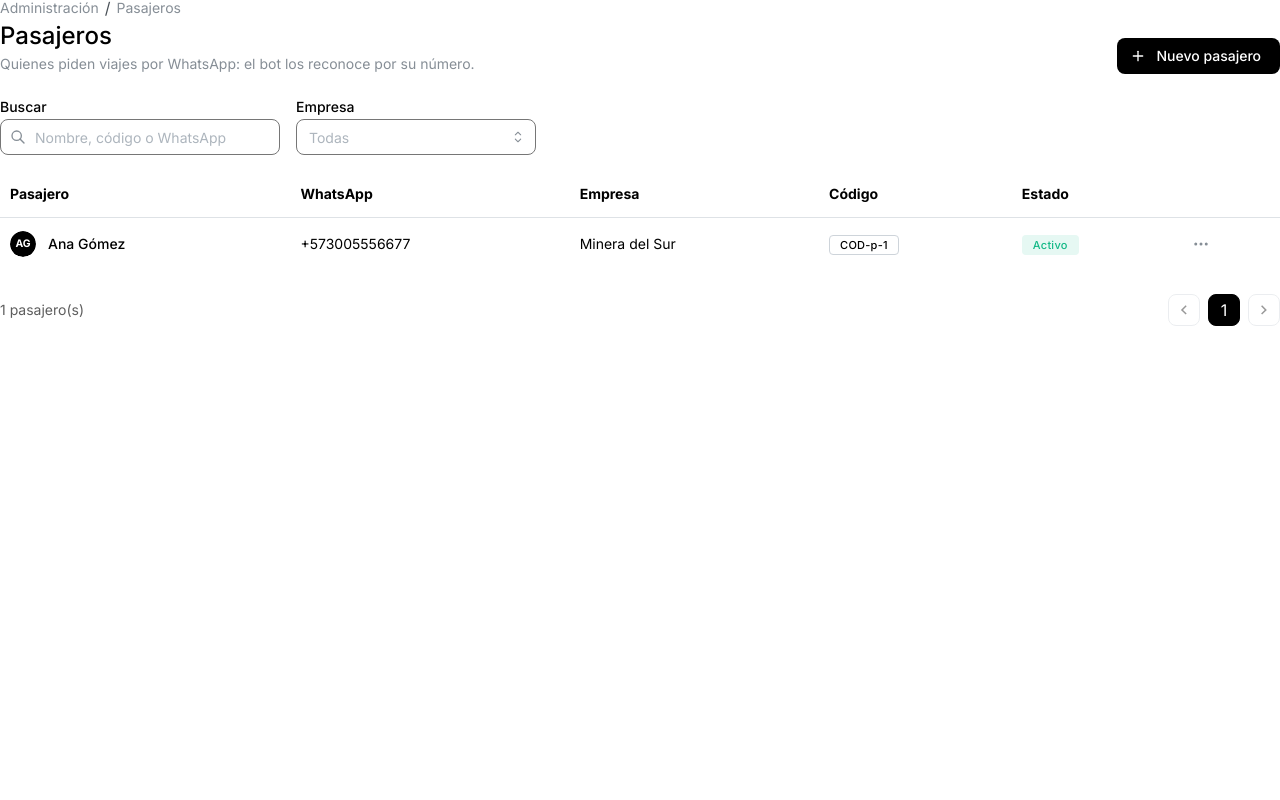
Scenario: Pasajeros (RF-05) › el Administrador registra un pasajero eligiendo solo entre empresas activas
Click the button "Nuevo pasajero": (1199, 56) [1118,38,1279,74]
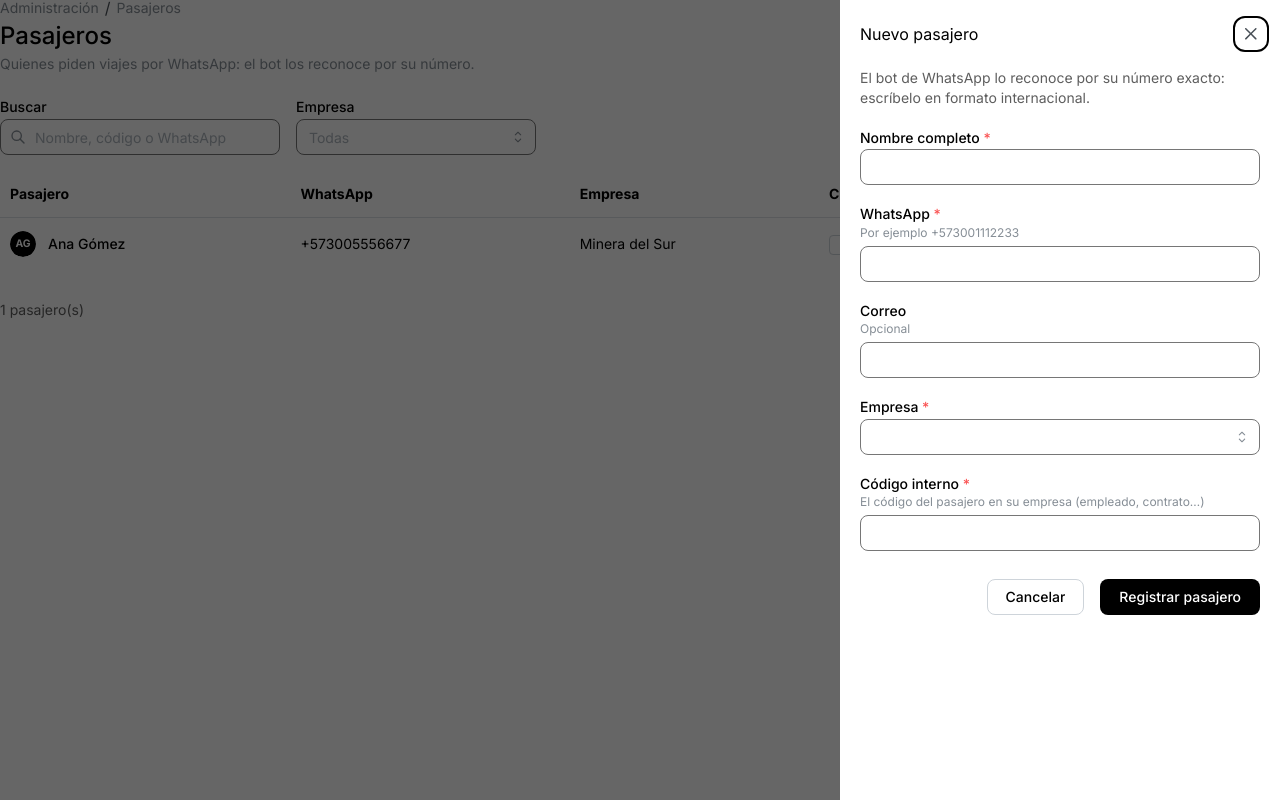
In the field labelled "Nombre completo *": (1060, 167) [860,149,1260,185], type "Luis Díaz"
In the field labelled "WhatsApp *": (1060, 264) [860,246,1260,282], type "+573004443322"
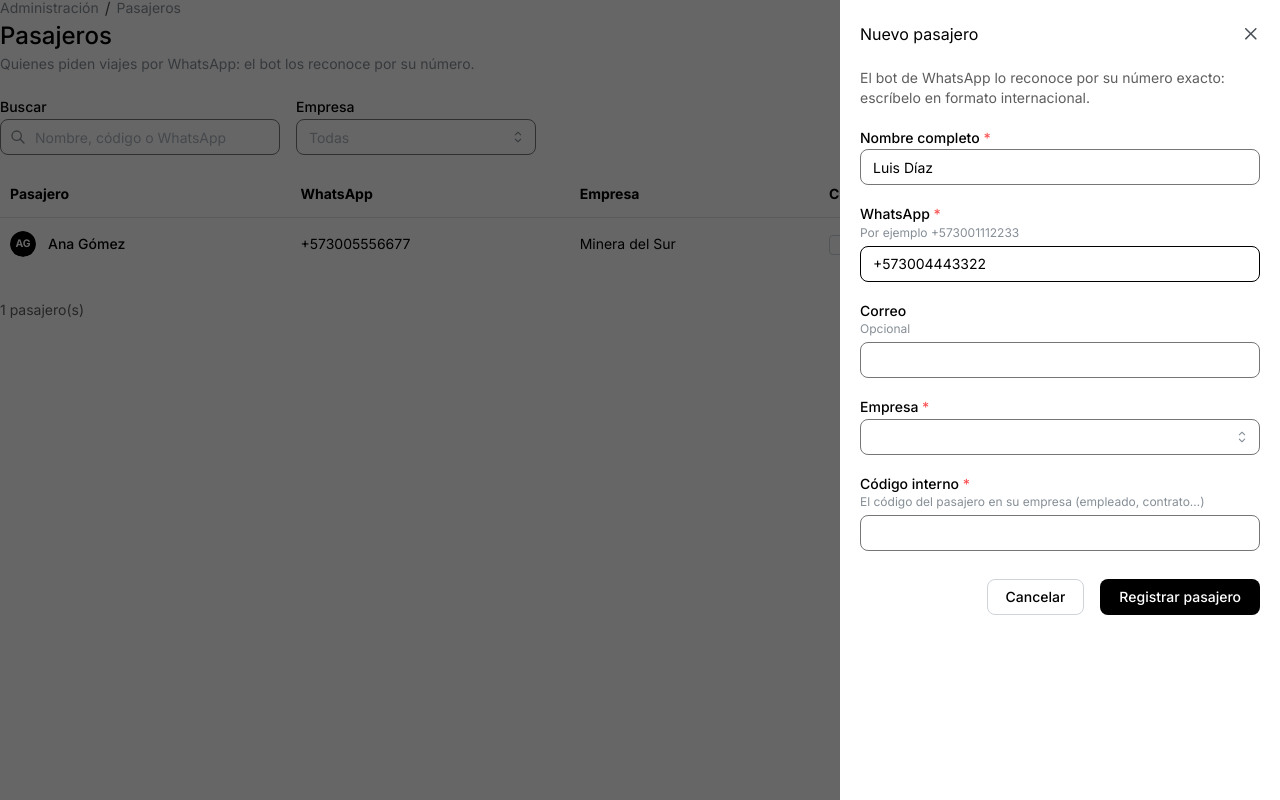
Click the field labelled "Empresa": (1060, 437) [860,419,1260,455]
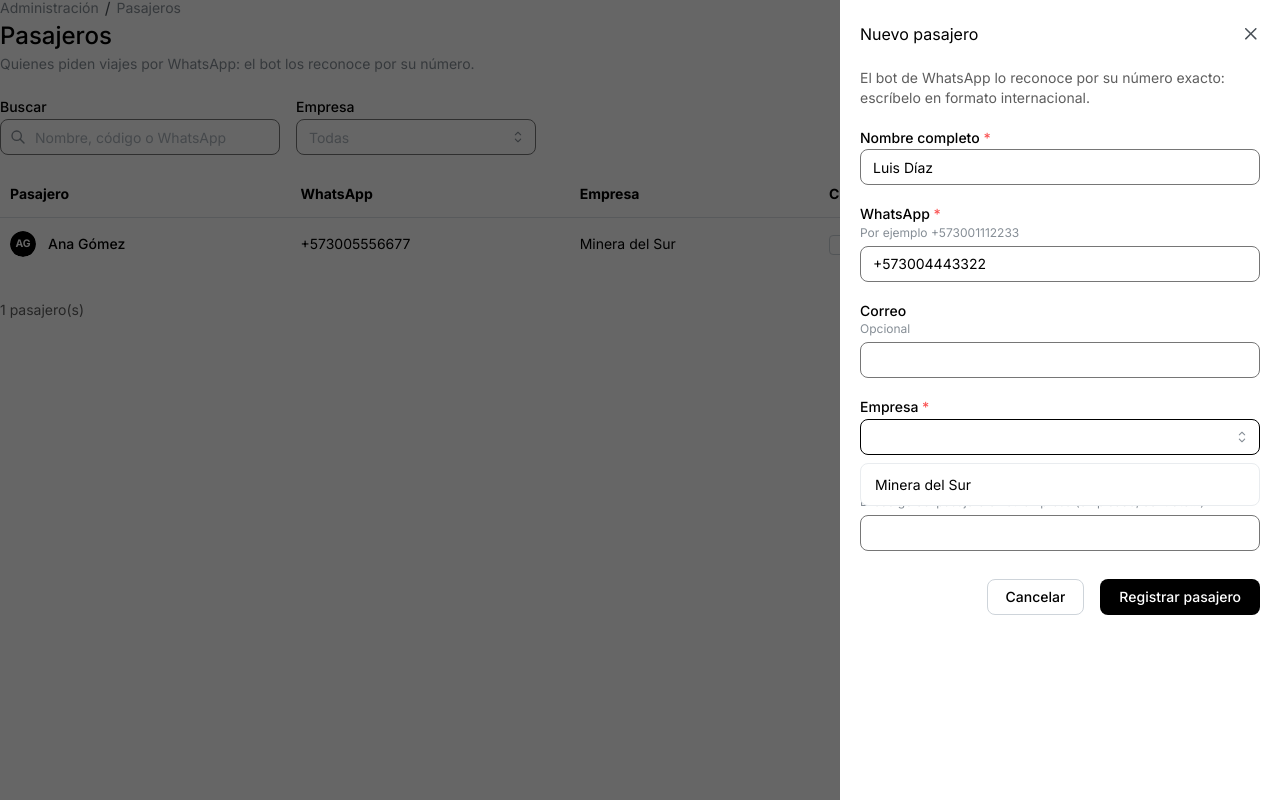
Click the option "Minera del Sur": (923, 484) [875,476,971,493]
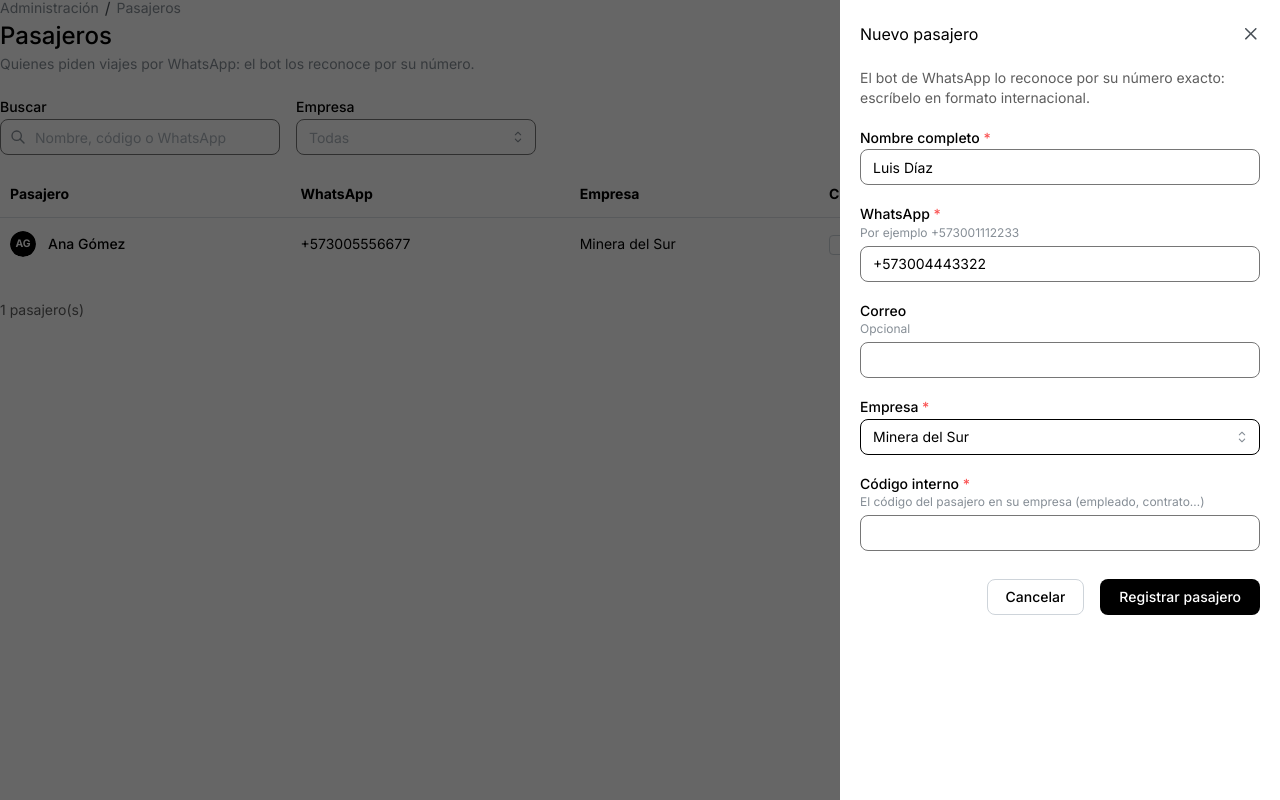
In the field labelled "Código interno *": (1060, 533) [860,515,1260,551], type "E-200"
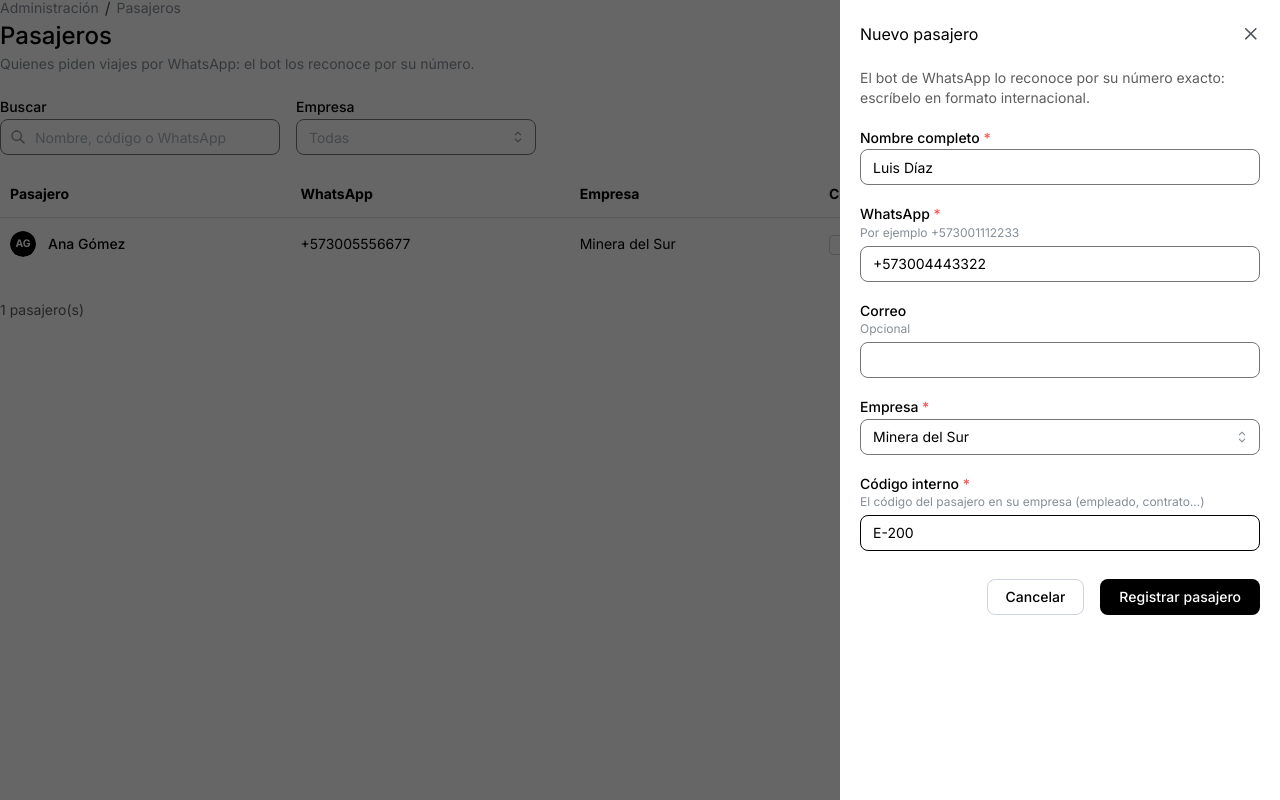
Click the button "Registrar pasajero": (1180, 597) [1100,579,1260,615]
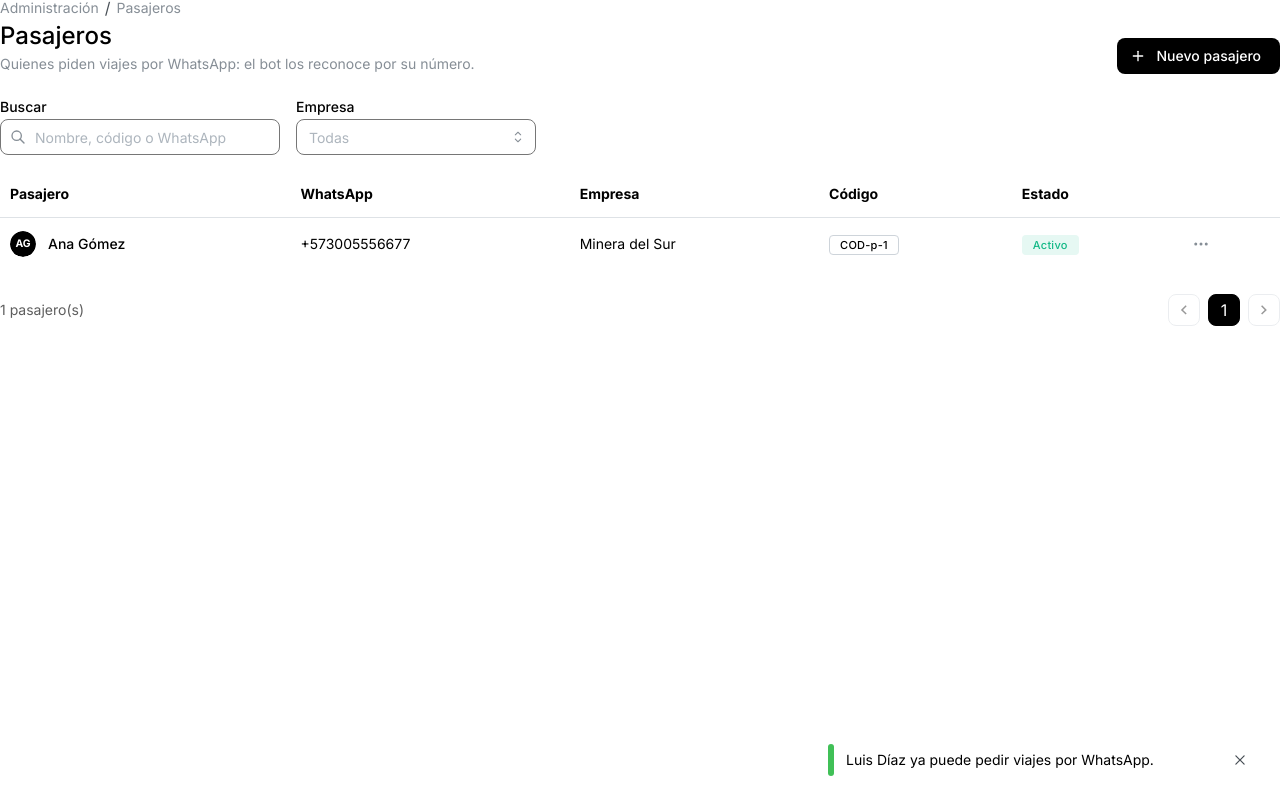
Check: the text "Luis Díaz ya puede pedir viajes por WhatsApp." is shown, box [846,751,1154,768]
